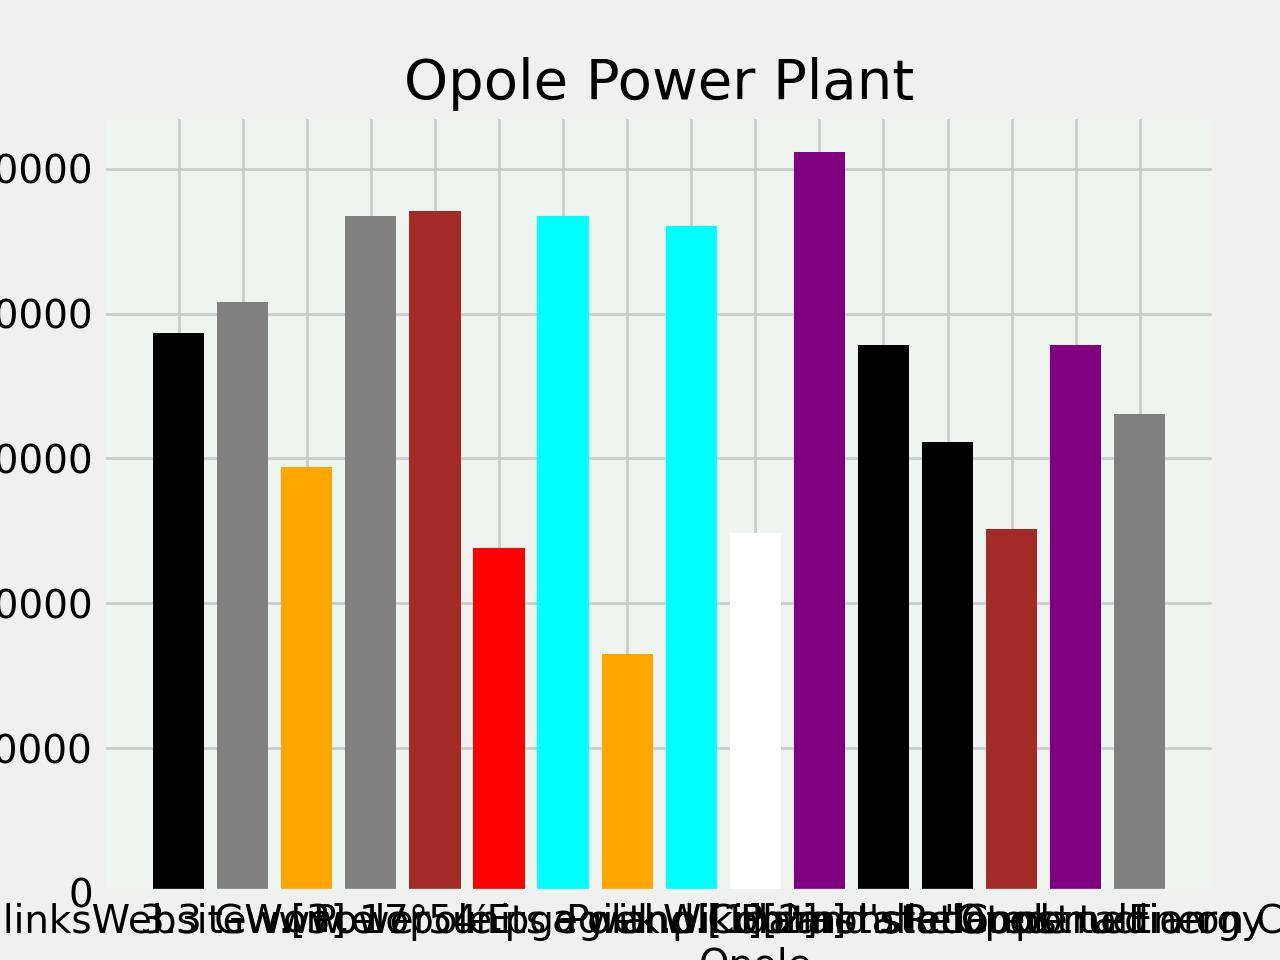axis: (0, 154, 93, 916)
rectangle: (794, 152, 845, 893), (409, 212, 461, 892), (537, 217, 589, 892), (665, 226, 717, 893), (346, 216, 396, 893), (217, 302, 268, 892), (153, 333, 204, 892), (858, 345, 909, 893), (1050, 345, 1101, 893), (1115, 414, 1165, 892), (922, 442, 973, 892), (281, 467, 333, 892), (986, 529, 1037, 893), (730, 532, 781, 892), (474, 548, 524, 893), (602, 654, 652, 893)
